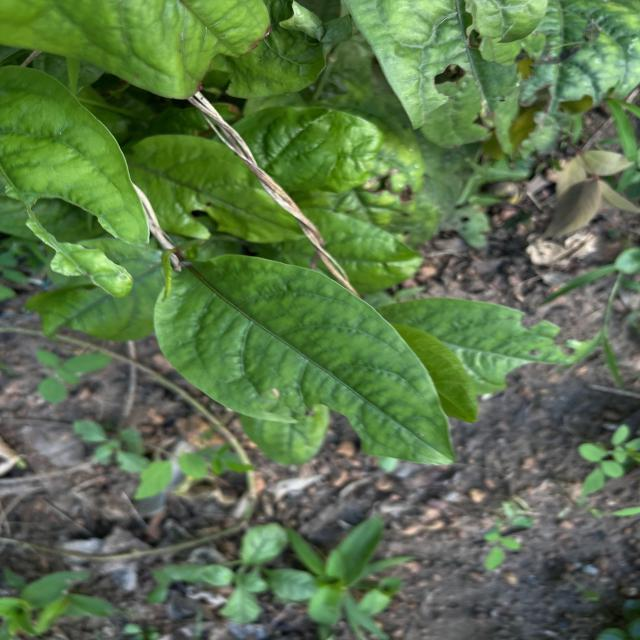Plumbago indica: (147, 247, 470, 472)
